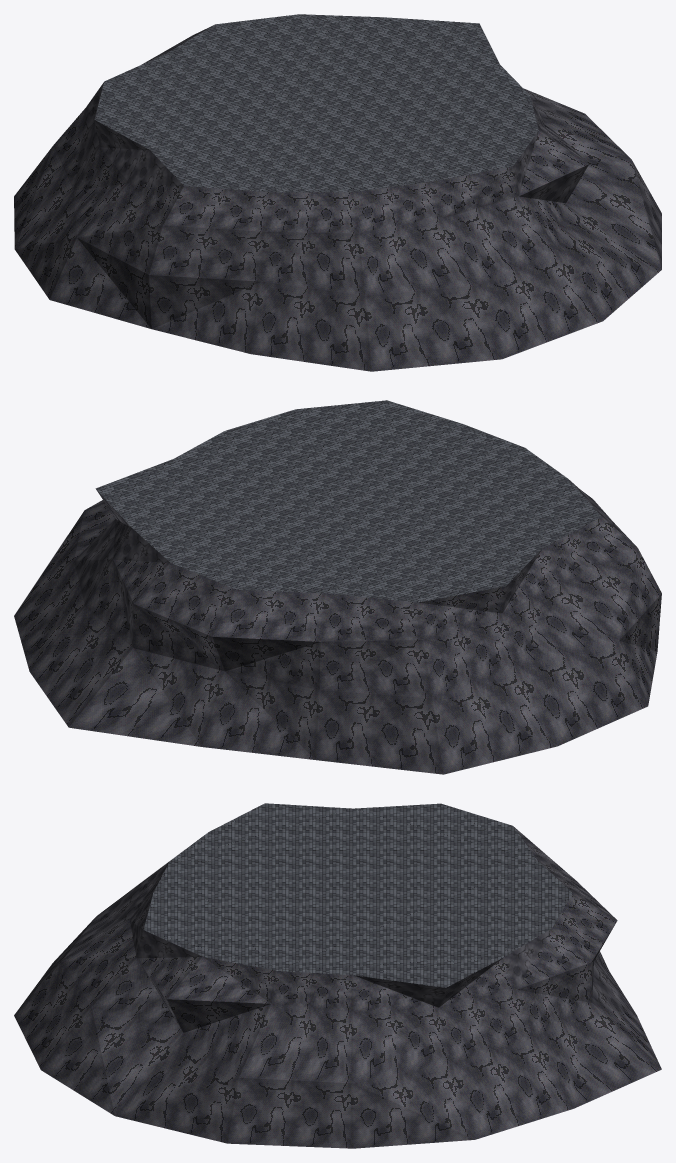
File: isla_faro.obj
3 views of the same model, one above another, from view 1: azimuth 30°, elevation 25°; view 2: azimuth 150°, elevation 25°; view 3: azimuth 270°, elevation 25° (orthographic). The views are drawn at different scales.
Parts seen in each view (by area): view 1: isla_faro; view 2: isla_faro; view 3: isla_faro.
Boxes of the visible parts, x1,y1,x2,y2 form: isla_faro: [14, 14, 661, 371]; isla_faro: [14, 400, 661, 774]; isla_faro: [14, 803, 661, 1148].
Size of the model in its own units: 41.99 by 9 by 43.27.
2 materials, 2 textured.
